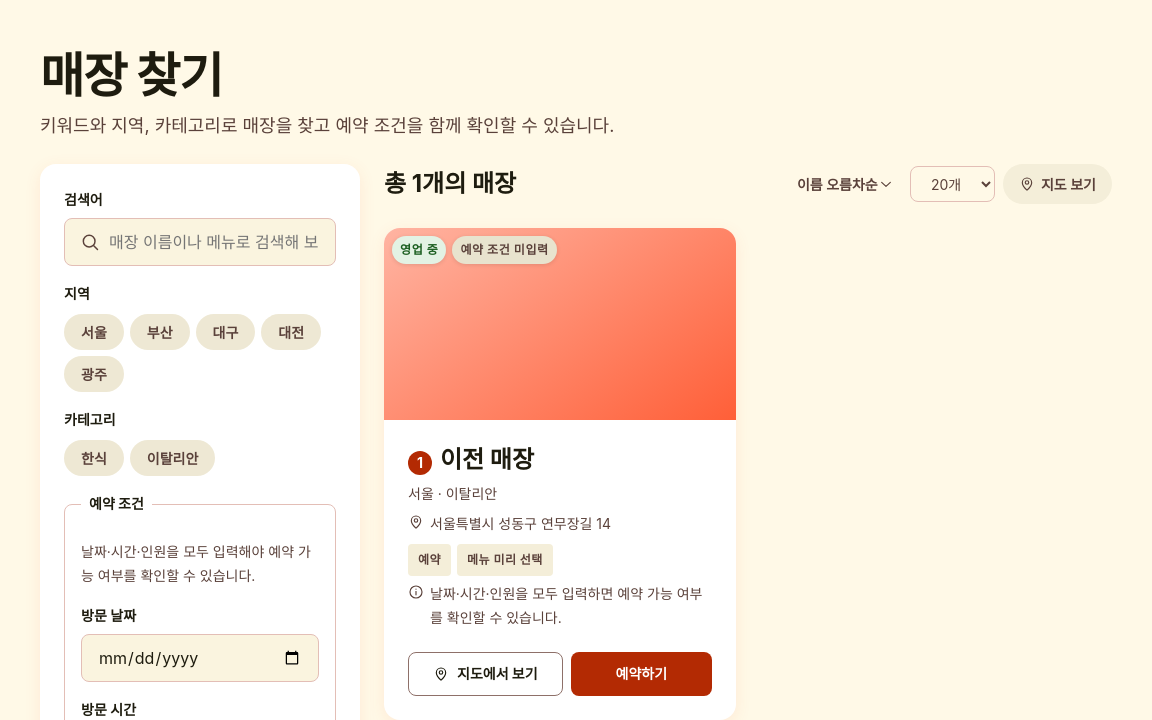
Test: 매장 찾기 결과 화면 › 조건이 바뀌면 이전 조건의 결과를 새 결과처럼 보여 주지 않는다
Expected: the link "이전 매장" is shown, [440,444,534,476]
Click the button "부산" at (160, 332), box [130,314,190,350]
(page scrolled)
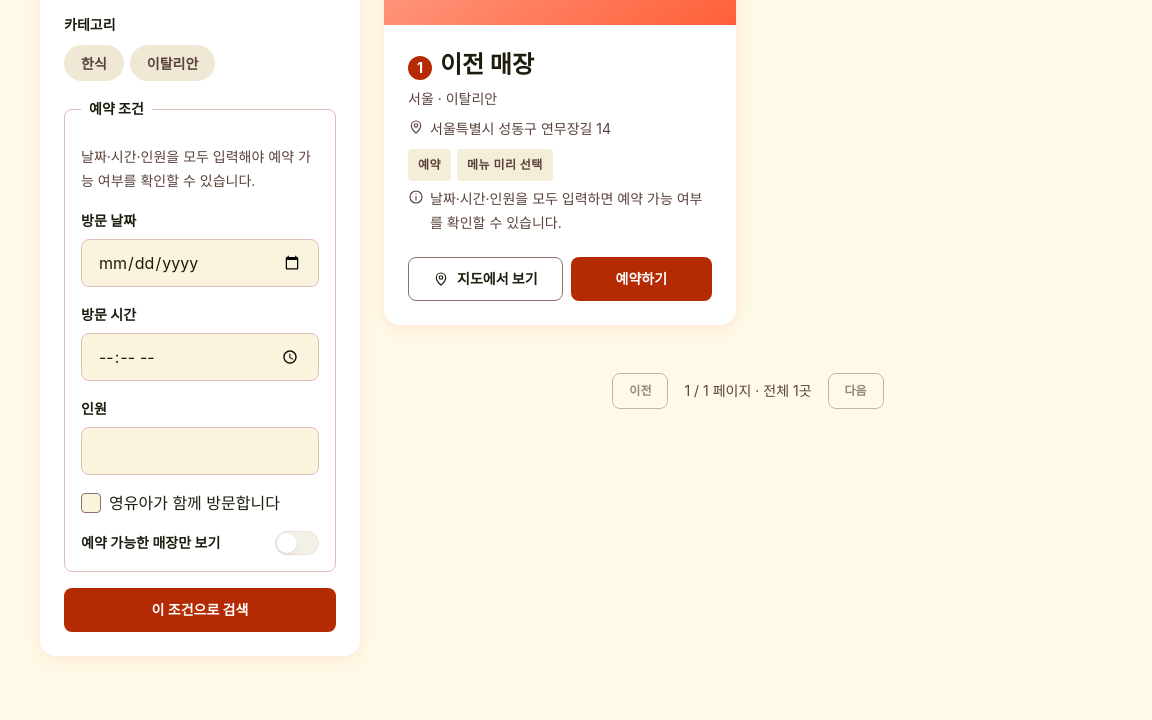
Click the button "이 조건으로 검색" at (200, 610), box [64,588,336,632]
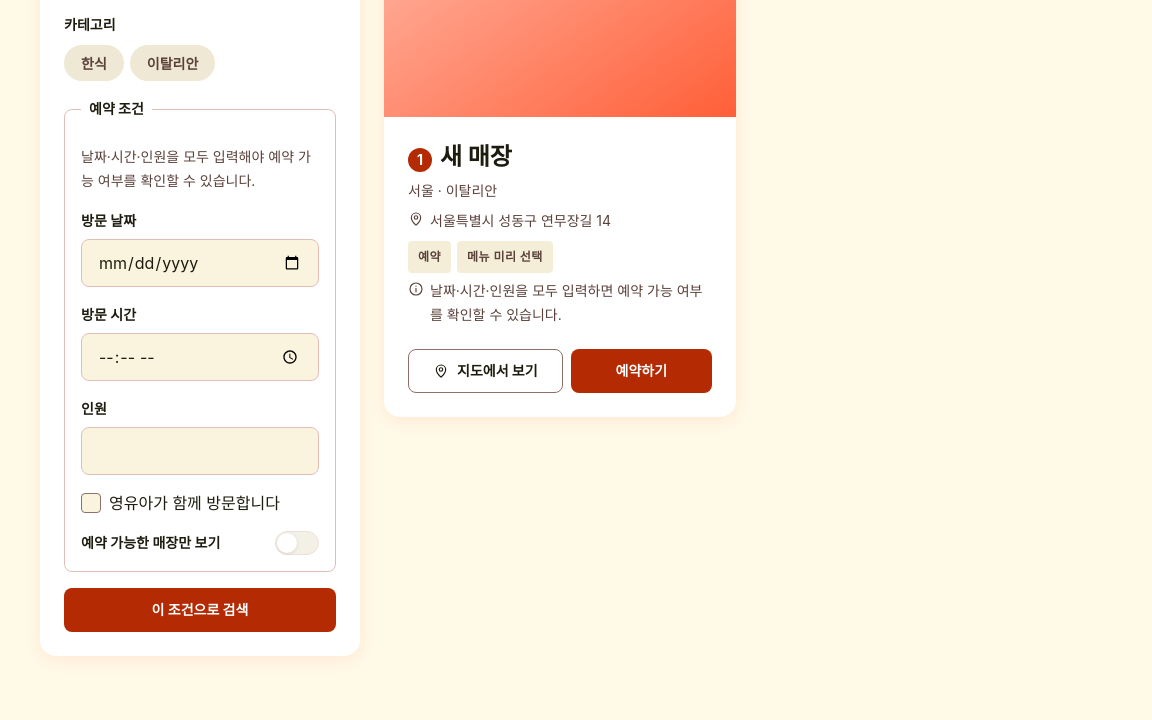
Result: the link "이전 매장" is gone
Result: the link "새 매장" is shown at [440,141,512,173]
